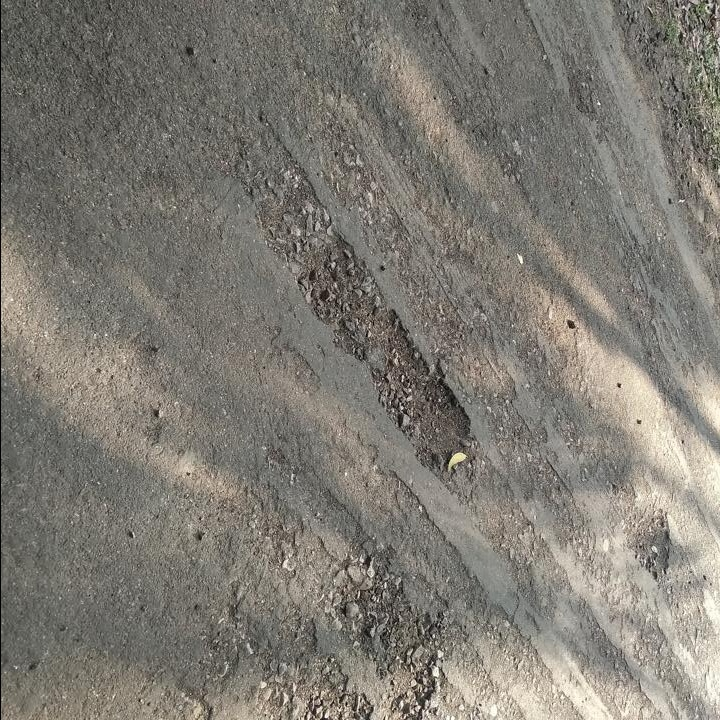pothole: (295, 232, 479, 491), (326, 546, 449, 720), (301, 652, 377, 720), (620, 503, 678, 584)
